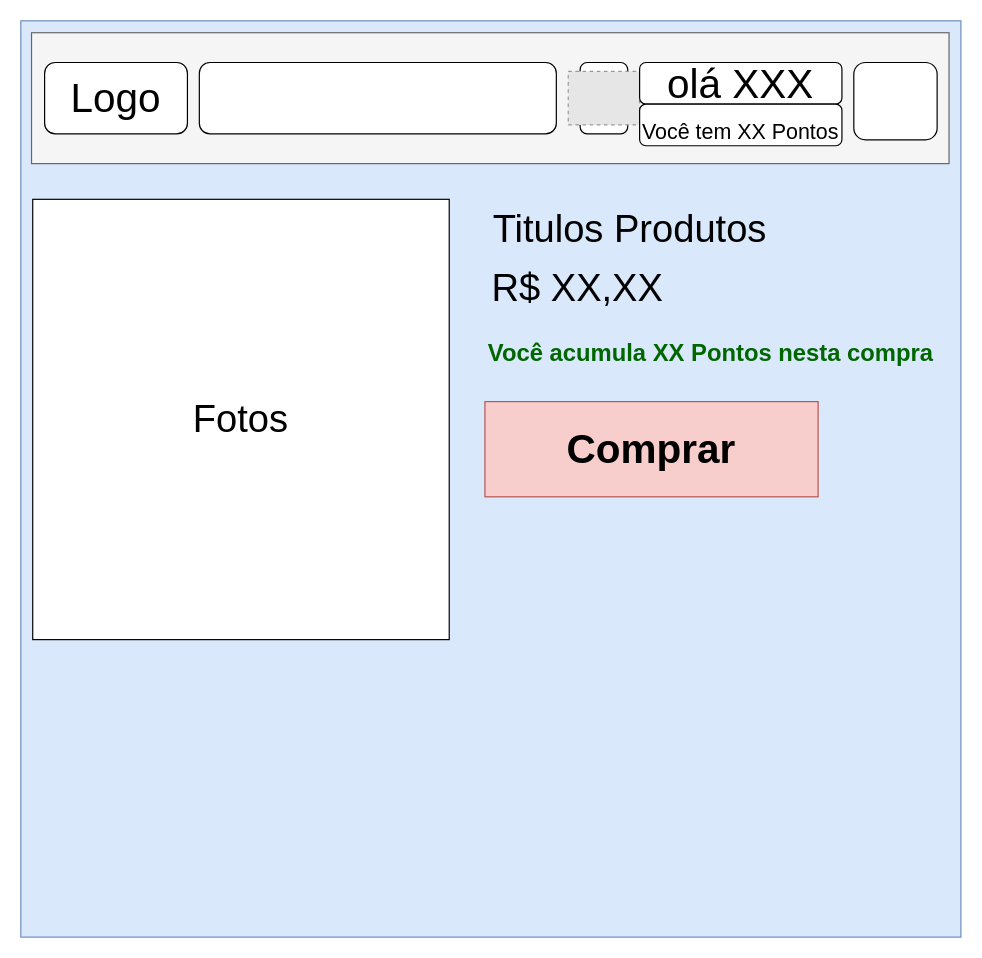
This 982x958 diagram has some shape labels left out. Grey dashed boxes stand in for pictures. The centre of each missing label's shape, as x and y in pixels:
"CART" goes at (895,100).
"Menu" goes at (377,97).
